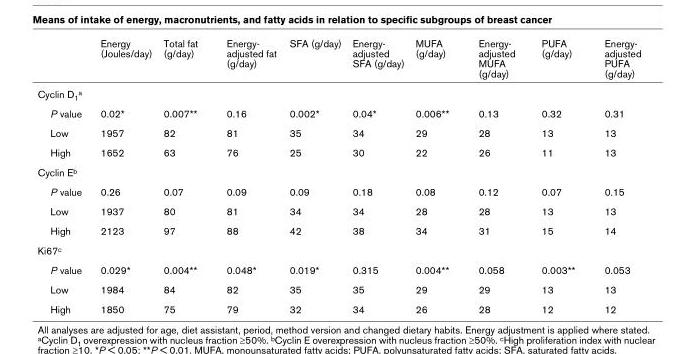table: (36, 36, 640, 314)
table column: (211, 36, 282, 314), (90, 36, 157, 314), (462, 36, 527, 314), (282, 36, 346, 314), (346, 36, 409, 314), (527, 36, 589, 314), (36, 36, 90, 314), (157, 36, 211, 314), (409, 36, 462, 314), (589, 36, 640, 314)
table column header: (36, 36, 640, 83)
table projected row header: (36, 83, 640, 103), (36, 161, 640, 181), (36, 240, 640, 259)
table row: (36, 36, 640, 83), (36, 83, 640, 103), (36, 122, 640, 142), (36, 161, 640, 181), (36, 200, 640, 220), (36, 220, 640, 240), (36, 259, 640, 279), (36, 103, 640, 122), (36, 142, 640, 161), (36, 181, 640, 200), (36, 240, 640, 259), (36, 279, 640, 298), (36, 298, 640, 314)
